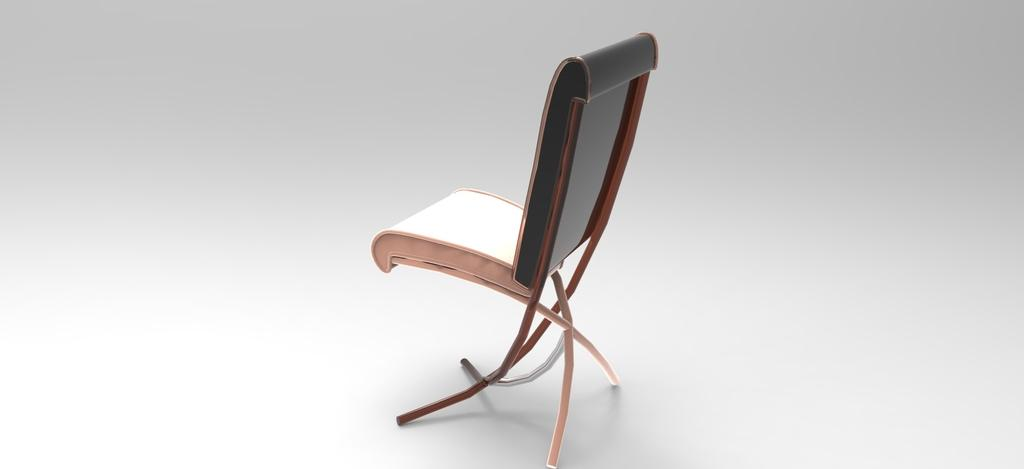Chair: (350, 31, 662, 457)
